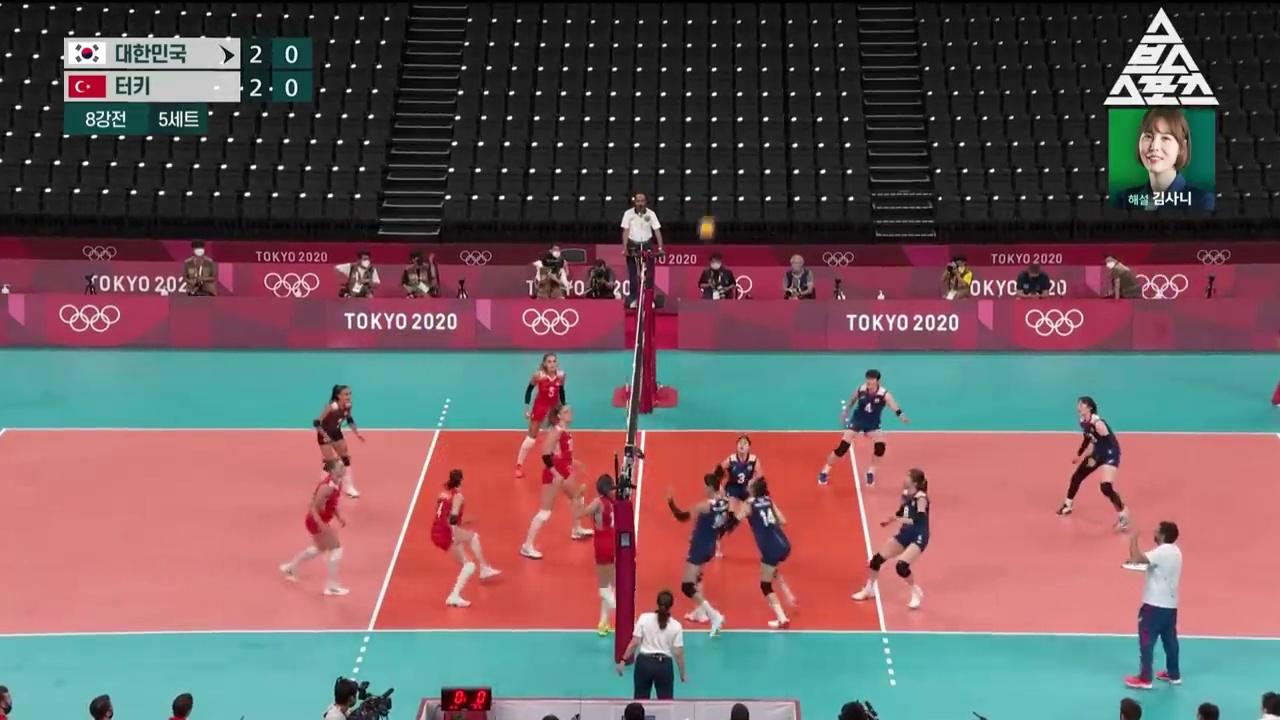ball: (699, 223, 714, 239)
player: (521, 405, 595, 559), (724, 477, 799, 628), (666, 464, 730, 637), (817, 370, 910, 486), (853, 468, 929, 607), (430, 469, 502, 608), (280, 458, 350, 595), (1056, 397, 1128, 530), (576, 474, 621, 637), (516, 353, 567, 479), (713, 435, 763, 558), (313, 384, 365, 497)
referee: (618, 590, 686, 700), (621, 194, 663, 309)
